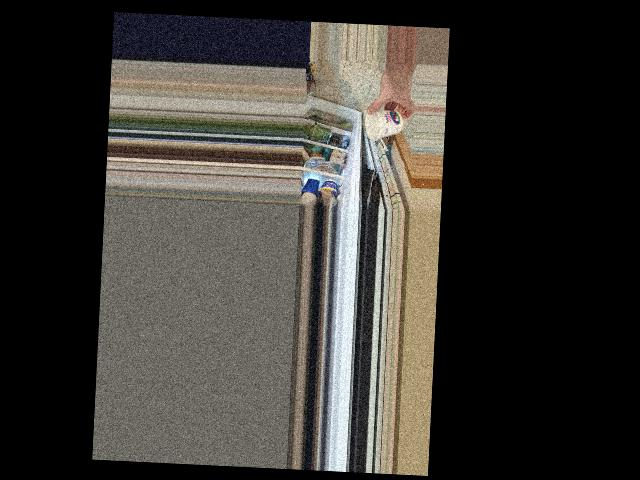cotage: (365, 105, 405, 141)
